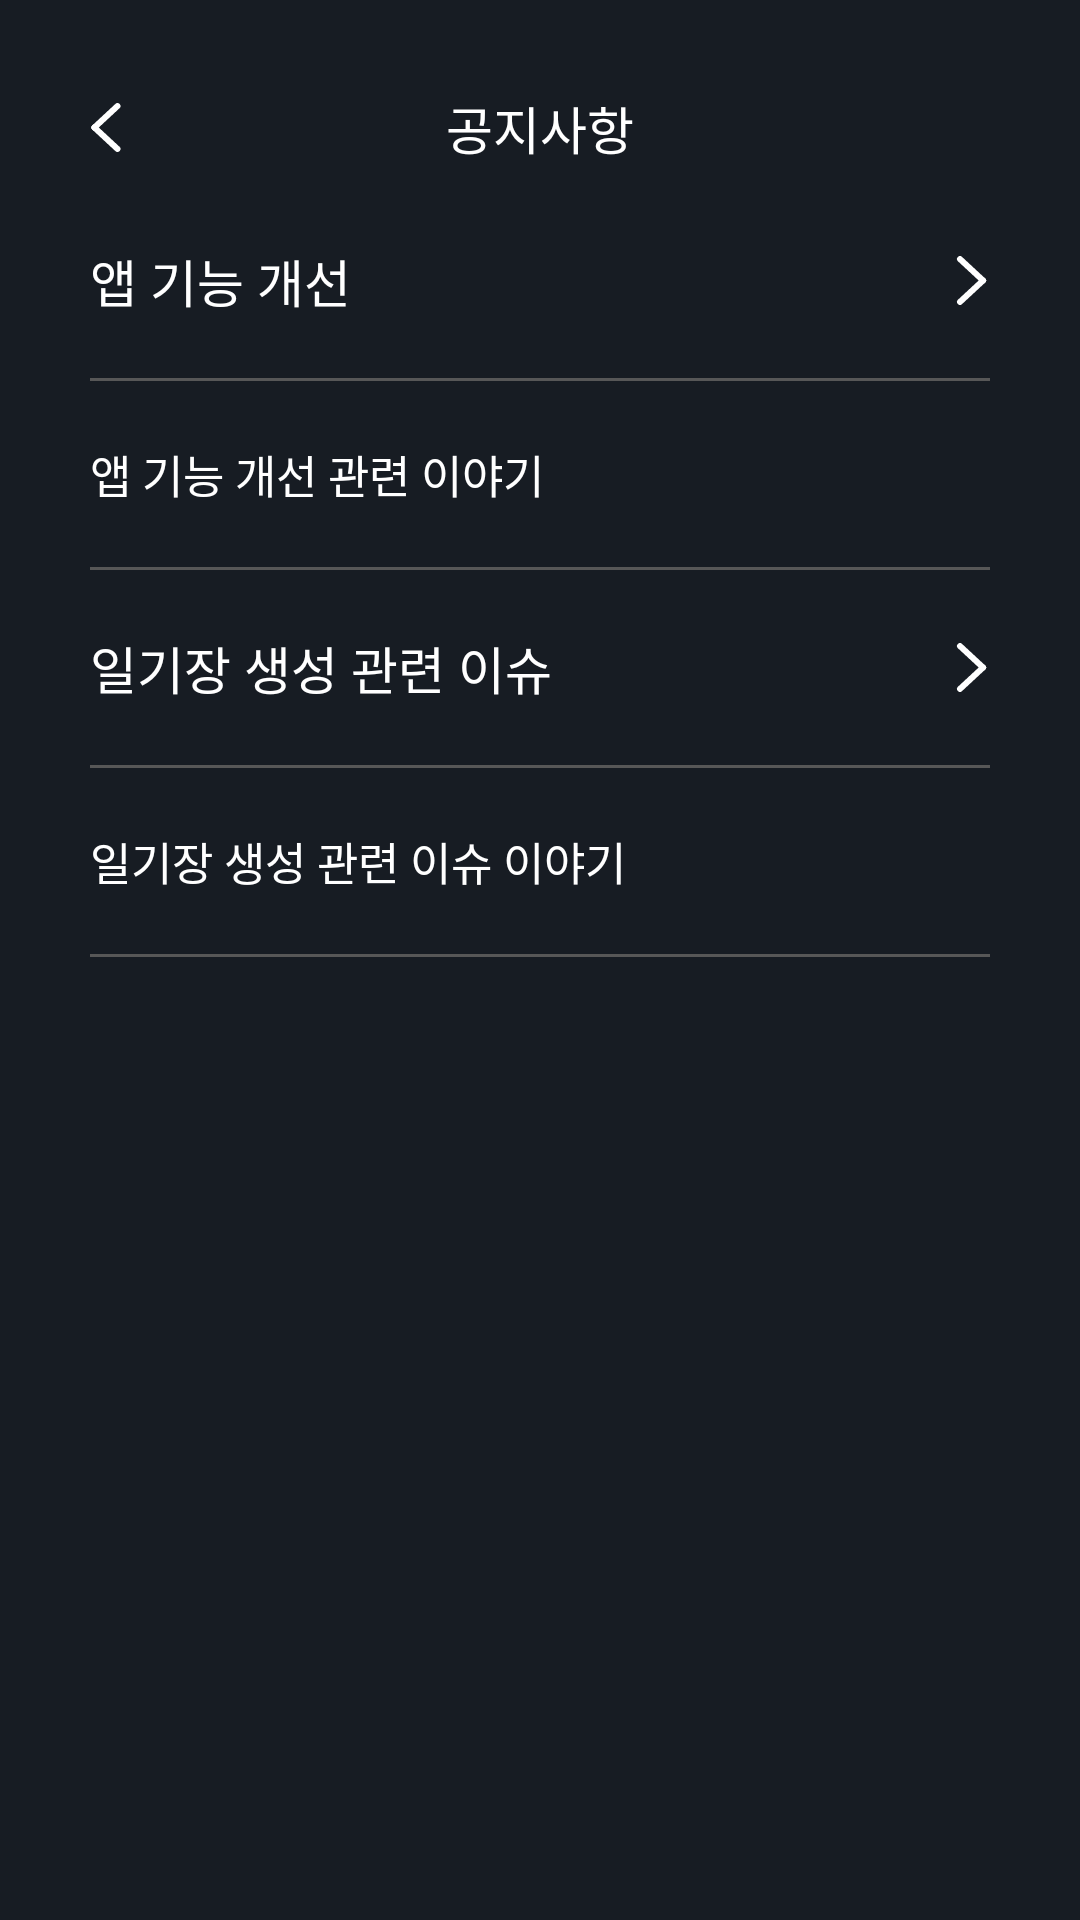

Point at icon controls on the screen. Image size 1080px x 1920px, points as (x=x, y=y).
back: (x=106, y=127)
detail: (x=972, y=280), (x=972, y=667)
